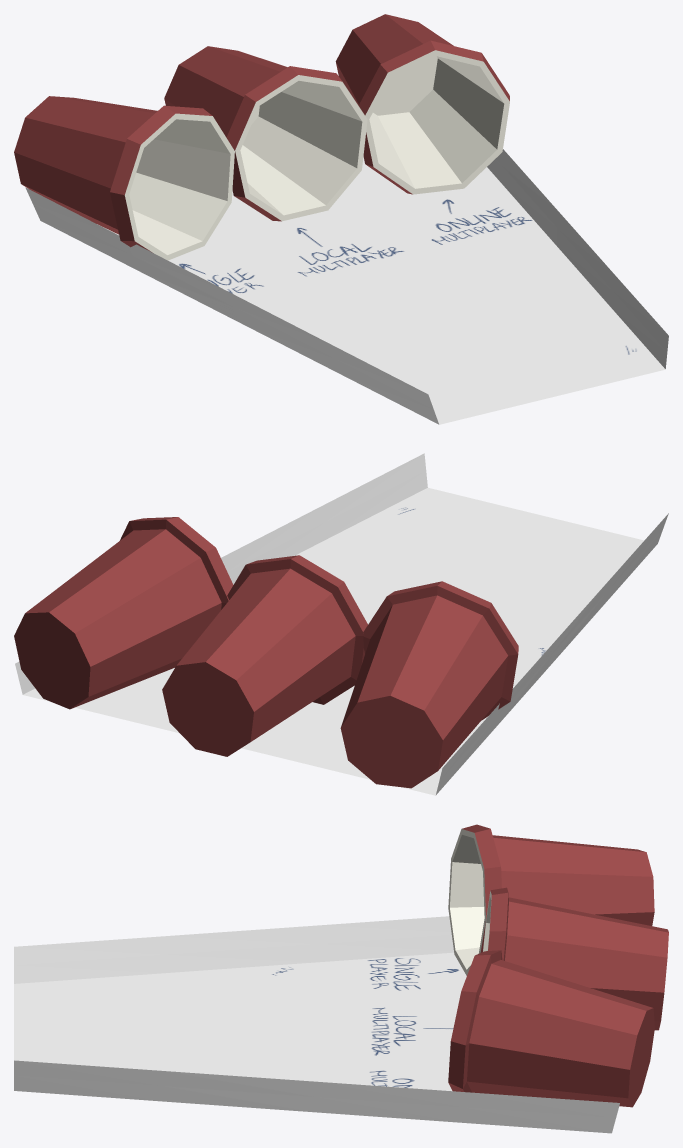
Rendered from Platform.FBX.
The picture shows the model from 3 angles, top to bottom: view 1: azimuth 30°, elevation 25°; view 2: azimuth 150°, elevation 25°; view 3: azimuth 270°, elevation 25°; orthographic projection. The views are drawn at different scales.
Parts seen in each view (by area): view 1: Plane001, FratCup002, FratCup001, FratCup; view 2: Plane001, FratCup, FratCup001, FratCup002; view 3: Plane001, FratCup001, FratCup002, FratCup.
Part boxes in pixels (x1=…): Plane001: x1=25, y1=149, x2=668, y2=424; FratCup002: x1=14, y1=96, x2=234, y2=260; FratCup001: x1=335, y1=14, x2=509, y2=194; FratCup: x1=164, y1=46, x2=367, y2=221; Plane001: x1=15, y1=453, x2=668, y2=795; FratCup: x1=162, y1=555, x2=367, y2=756; FratCup001: x1=14, y1=517, x2=233, y2=709; FratCup002: x1=340, y1=581, x2=518, y2=788; Plane001: x1=14, y1=916, x2=619, y2=1133; FratCup001: x1=448, y1=950, x2=654, y2=1107; FratCup002: x1=448, y1=824, x2=654, y2=975; FratCup: x1=483, y1=887, x2=668, y2=1030.
Size of the model in its own units: 135 by 44.16 by 185.
Materials: 2 (2 with a texture image).
